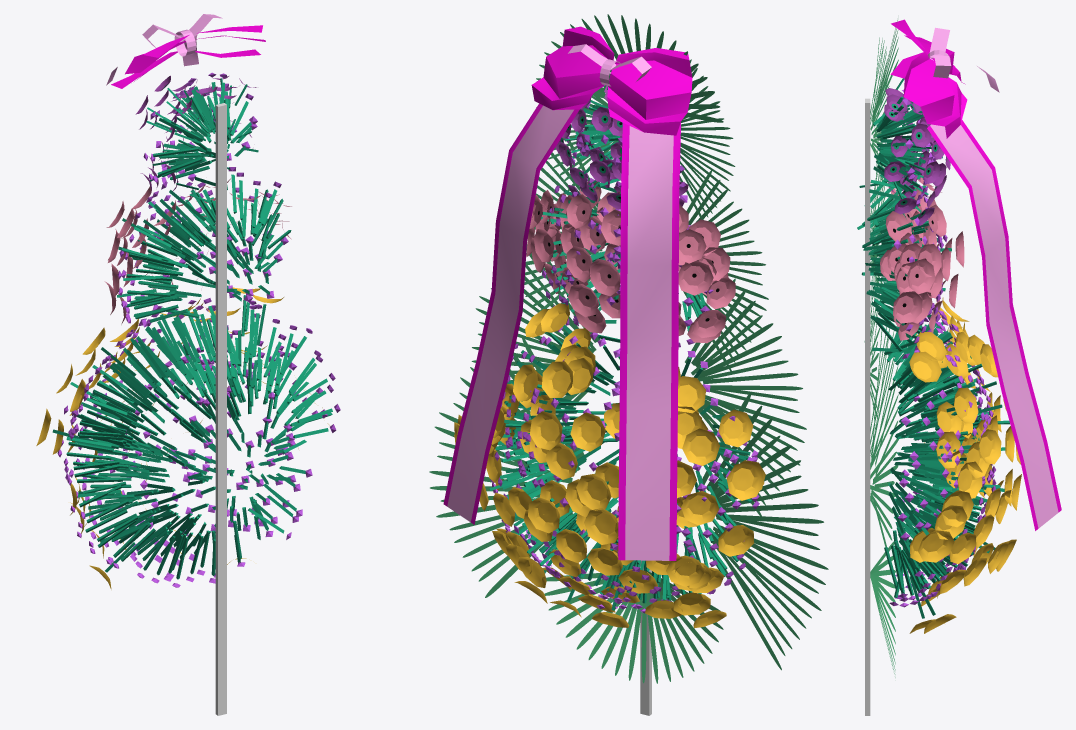
File: flower01.glb
3 renders of one model, left to right at view 1: azimuth 30°, elevation 25°; view 2: azimuth 150°, elevation 25°; view 3: azimuth 270°, elevation 25°, orthographic. The views are drawn at different scales.
Visible parts, largest first — view 1: Cube, Plane.1 1, Plane, Plane.1; view 2: Plane-Mat.1 (×2), Sphere (×21), Plane-Mat.1 1 (×2), Plane.1 1, Sphere-Mat.1 (×6), Plane.1, Cube, Plane; view 3: Plane-Mat.1 1 (×2), Sphere (×19), Cube, Plane.1, Sphere-Mat.1 (×6), Plane, Plane.1 1.
Part boxes in pixels (x1,y1,x2,y2): Cube: (215, 103, 226, 715); Plane.1 1: (111, 35, 189, 88); Plane: (106, 14, 222, 85); Plane.1: (195, 25, 265, 57); Plane-Mat.1 (×2): (618, 122, 680, 560); Sphere (×21): (513, 303, 764, 615); Plane-Mat.1 1 (×2): (443, 103, 579, 524); Plane.1 1: (607, 48, 692, 135); Sphere-Mat.1 (×6): (568, 229, 735, 337); Plane.1: (531, 26, 614, 110); Cube: (640, 560, 651, 715); Plane: (568, 44, 651, 81); Plane-Mat.1 1 (×2): (927, 120, 1061, 530); Sphere (×19): (909, 331, 1001, 593); Cube: (865, 98, 870, 715); Plane.1: (890, 52, 967, 138); Sphere-Mat.1 (×6): (885, 123, 946, 323); Plane: (929, 27, 999, 92); Plane.1 1: (891, 19, 965, 84).
Size of what is drawn, in the model's own units: 0.8697 by 1.47 by 0.3965.
9 materials, 1 textured.
